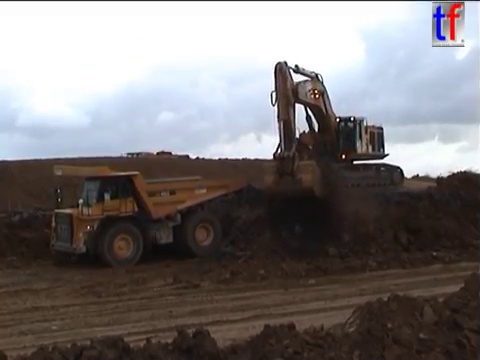excavator: (260, 58, 406, 203)
truck: (41, 162, 249, 269), (118, 147, 191, 170)
